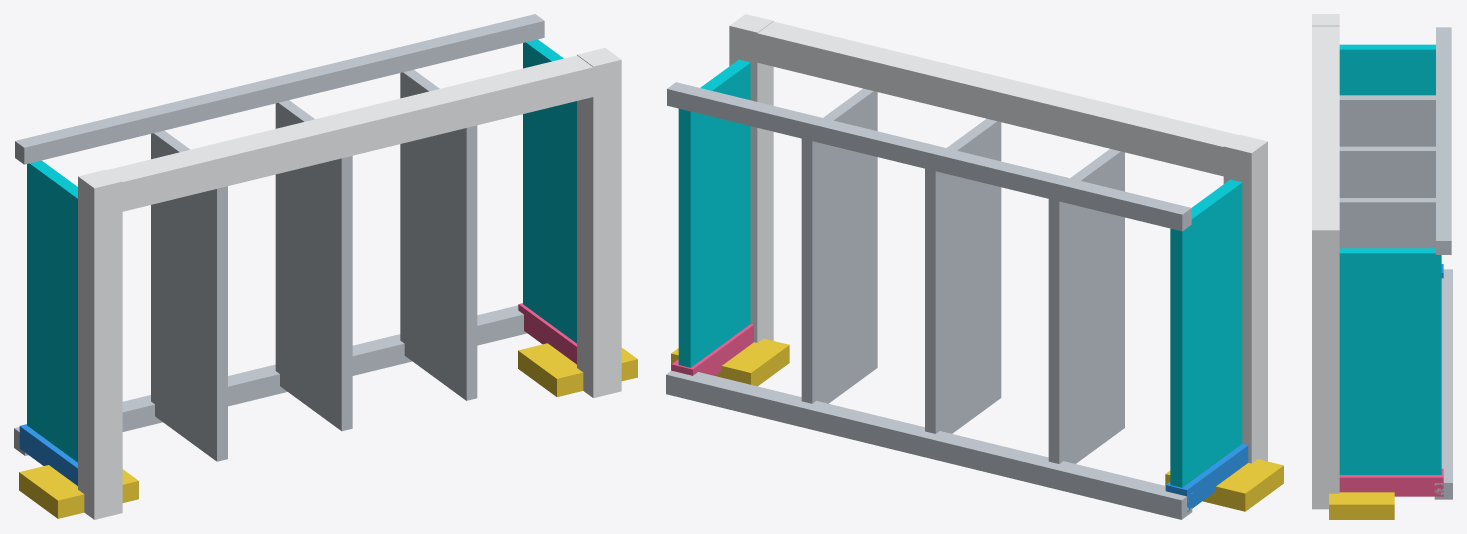
The model's file is Goal_Block.fbx.
The picture shows the model from 3 angles, left to right: view 1: azimuth 30°, elevation 25°; view 2: azimuth 150°, elevation 25°; view 3: azimuth 270°, elevation 25°; orthographic projection. The views are drawn at different scales.
Parts seen in each view (by area): view 1: Goal_Block; view 2: Goal_Block; view 3: Goal_Block.
Part boxes in pixels (x1,y1,x2,y2): Goal_Block: (14,14,637,519); Goal_Block: (666,14,1283,519); Goal_Block: (1312,14,1452,519).
Size of the model in its own units: 860 by 470 by 215.
